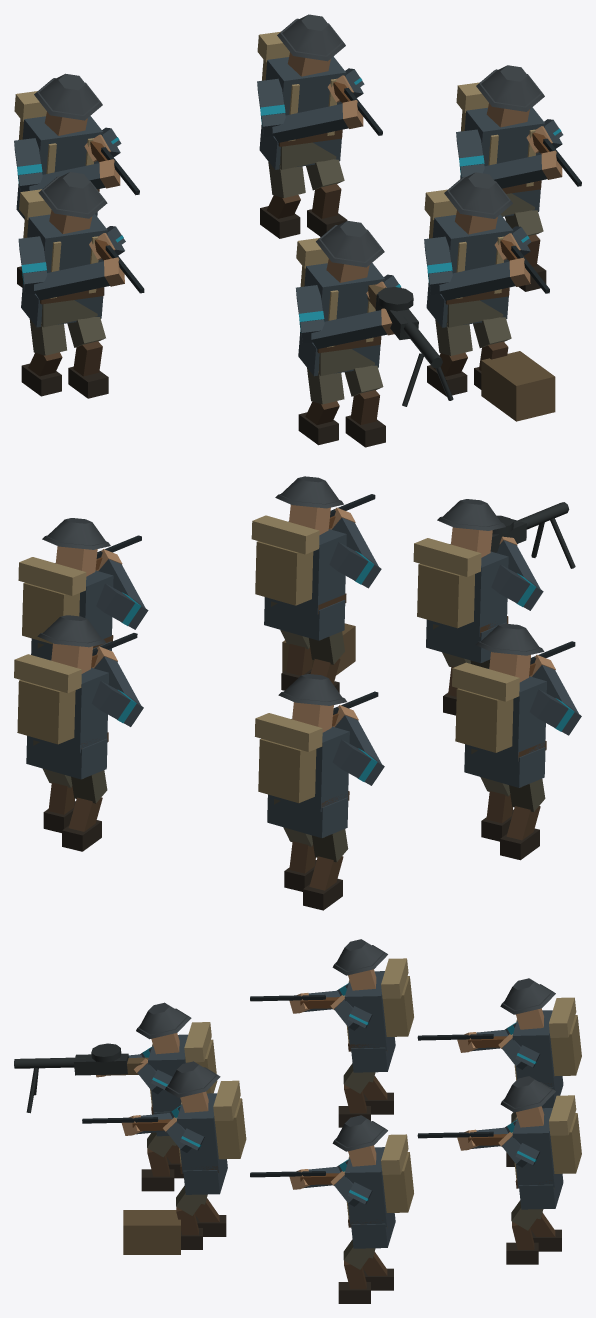
Rendered from lmg.glb.
3 views of the same model, one above another, from view 1: azimuth 30°, elevation 25°; view 2: azimuth 150°, elevation 25°; view 3: azimuth 270°, elevation 25° (orthographic). The views are drawn at different scales.
Visible parts, largest first — view 1: body; view 2: body; view 3: body.
Part boxes in pixels (x1,y1,x2,y2): body: (14, 14, 581, 447); body: (14, 476, 581, 910); body: (14, 939, 581, 1303).
Size of the model in its own units: 4.51 by 1.69 by 4.91.
